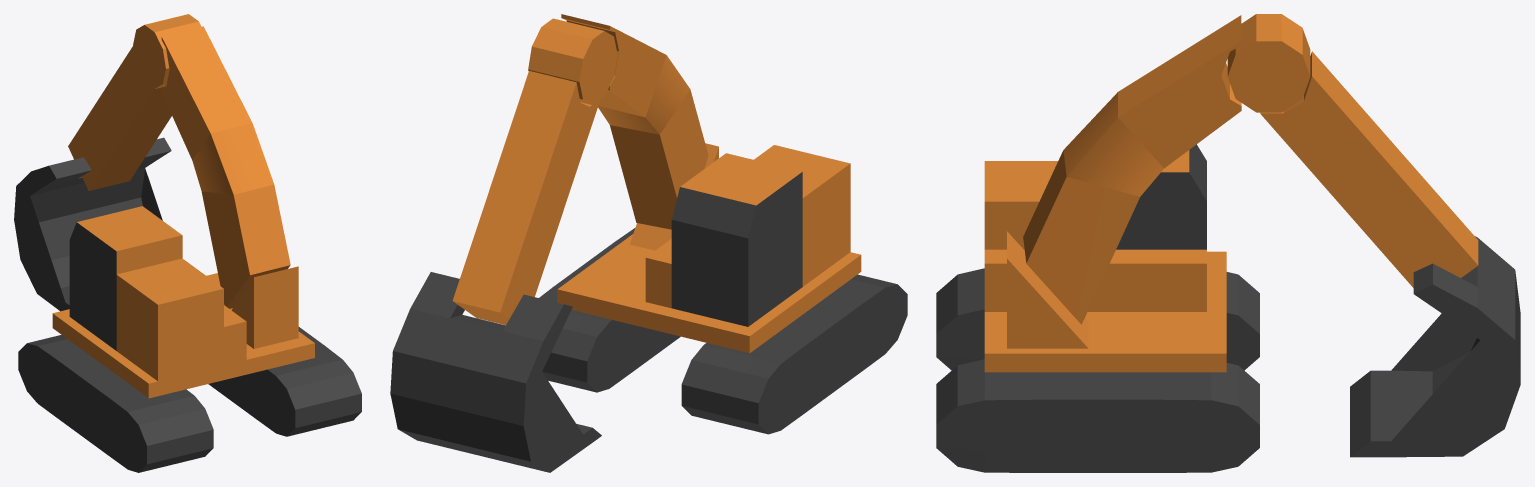
The model's file is bagger.glb.
3 views of the same model, side by side, from view 1: azimuth 30°, elevation 25°; view 2: azimuth 150°, elevation 25°; view 3: azimuth 270°, elevation 25° (orthographic). The views are drawn at different scales.
Parts seen in each view (by area): view 1: Cube; view 2: Cube; view 3: Cube.
Part boxes in pixels (left/top/right/bottom): Cube: left=14, top=14, right=361, bottom=472; Cube: left=390, top=14, right=907, bottom=472; Cube: left=936, top=14, right=1520, bottom=472.
Bounding box in the file's own units: 2.33 × 3.37 × 4.36.
